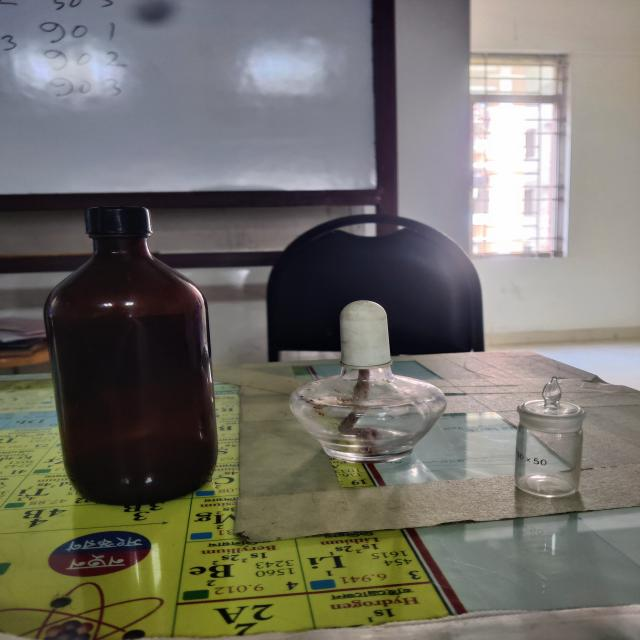Nessler_Reagent_Bottle: (22, 184, 241, 528)
Spirit_Lamp: (282, 286, 459, 484)
Weighing_Bottle: (478, 363, 618, 527)
